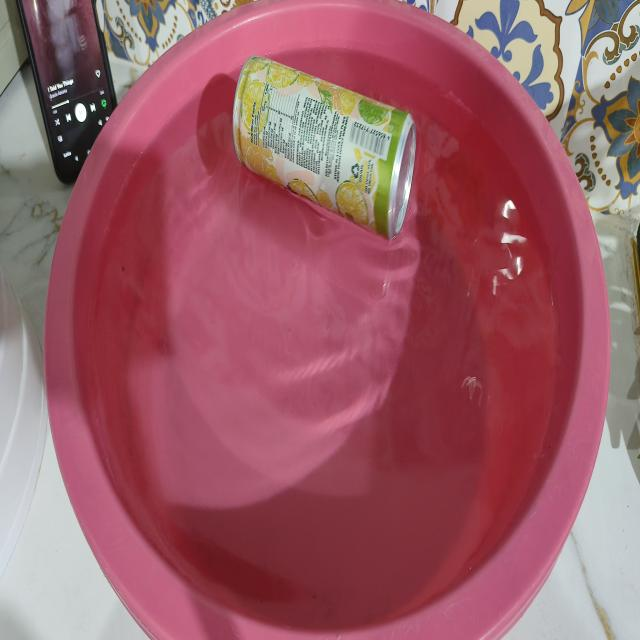Aluminum Can: (233, 56, 416, 239)
